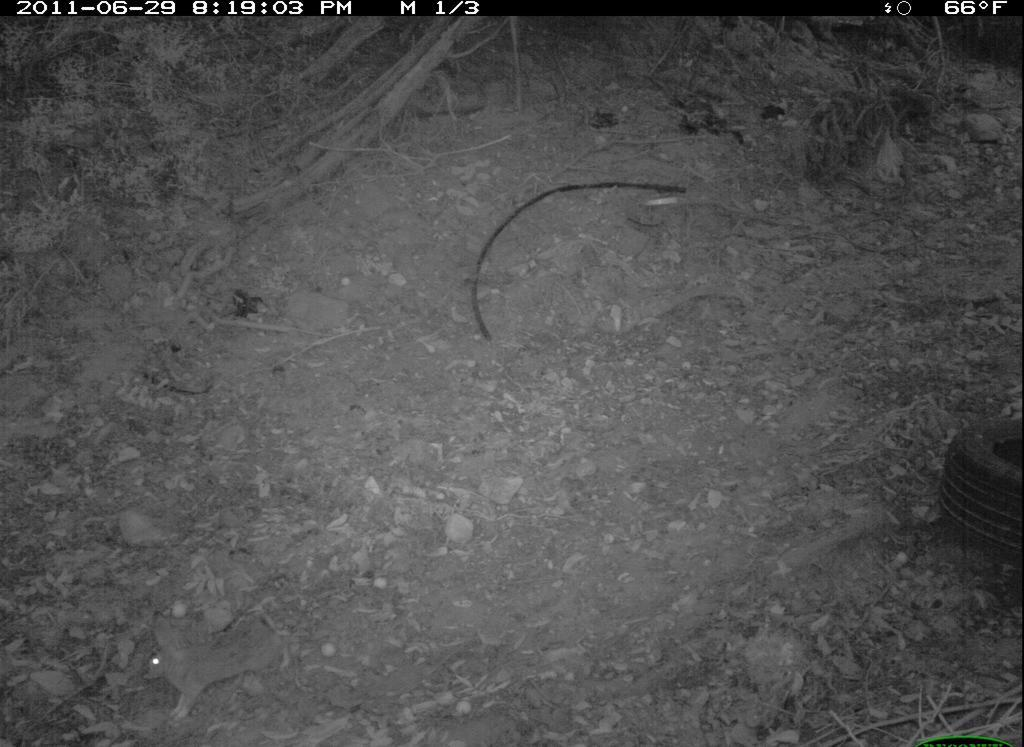rabbit: (139, 610, 300, 733)
